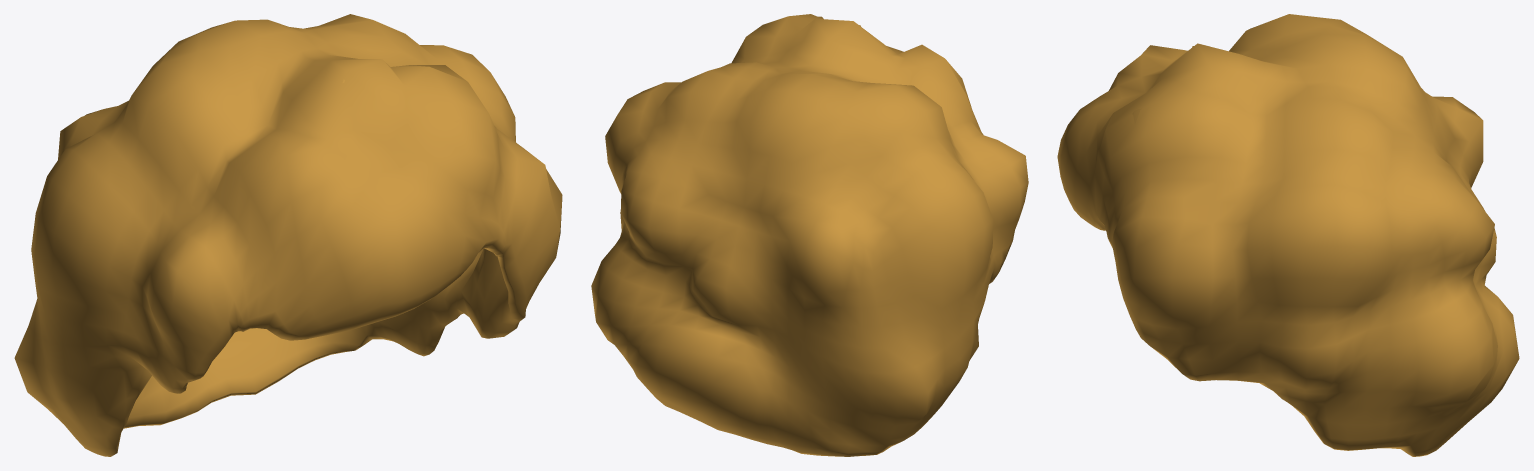
The model's file is HairType4.fbx.
3 views of the same model, side by side, from view 1: azimuth 30°, elevation 25°; view 2: azimuth 150°, elevation 25°; view 3: azimuth 270°, elevation 25° (orthographic). The views are drawn at different scales.
Visible parts, largest first — view 1: HairType4; view 2: HairType4; view 3: HairType4.
Part boxes in pixels (bbox=[...]): HairType4: bbox=[14, 14, 562, 456]; HairType4: bbox=[591, 14, 1028, 456]; HairType4: bbox=[1057, 14, 1519, 456].
Bounding box in the file's own units: 277 × 254 × 275.
